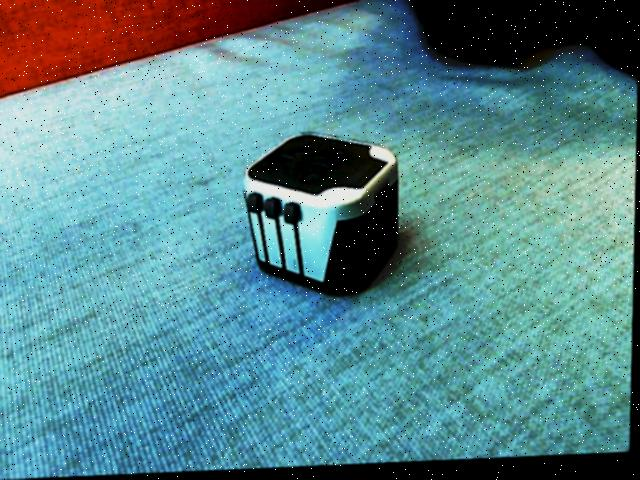adapter: (241, 131, 401, 302)
